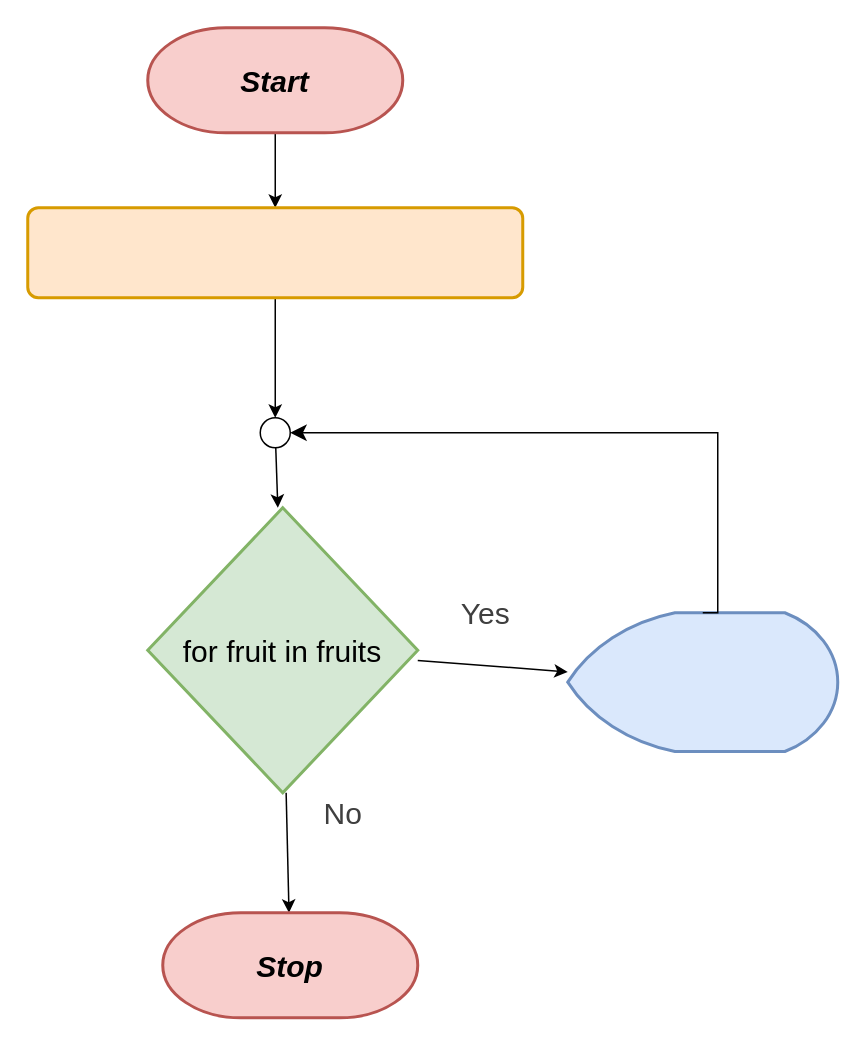
Some shapes in this 864 by 1044 pixel diagram are drawn without their labels. The shapes that lost their labels are listed below. From the top down, each one's box as (x1, y1, x2, y2) in pixels, then its label:
(26, 206, 524, 298): fuits = ["Apple","Banana","Cherry"]
(566, 610, 838, 752): Display:fruit
